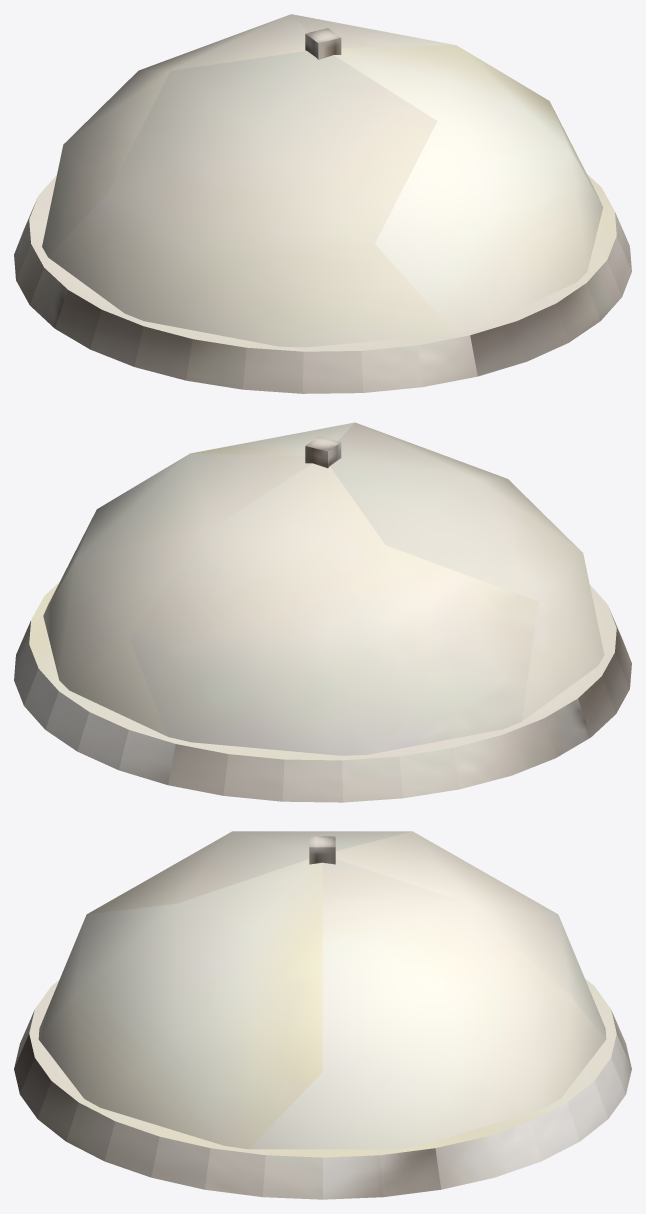
File: ceilingLight.fbx
3 renders of one model, top to bottom at view 1: azimuth 30°, elevation 25°; view 2: azimuth 150°, elevation 25°; view 3: azimuth 270°, elevation 25°, orthographic.
Parts seen in each view (by area): view 1: Icosphere, Circle, Cube; view 2: Icosphere, Circle, Cube; view 3: Icosphere, Circle, Cube.
Part boxes in pixels (<box>): Icosphere: <box>42,14,603,347</box>; Circle: <box>14,174,631,393</box>; Cube: <box>305,28,341,59</box>; Icosphere: <box>43,422,604,755</box>; Circle: <box>14,582,631,802</box>; Cube: <box>305,436,341,468</box>; Icosphere: <box>38,831,606,1149</box>; Circle: <box>14,979,631,1199</box>; Cube: <box>309,836,335,864</box>.
Bounding box in the file's own units: 200 × 81.17 × 200.
